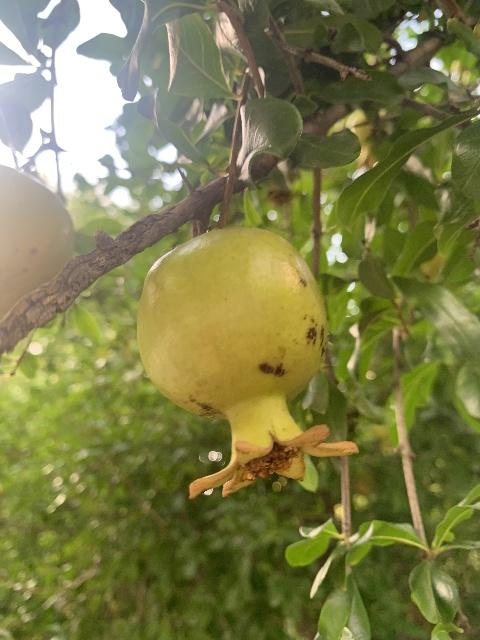mid-growth: (137, 226, 359, 502)
